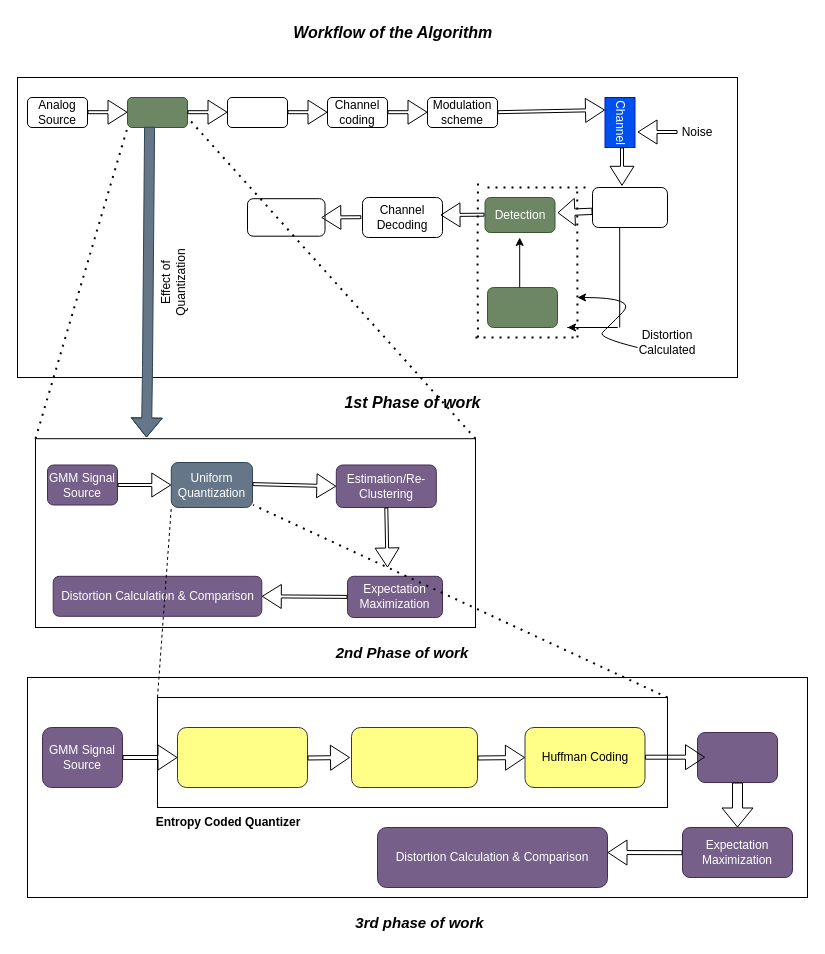
This 825x954 diagram has some shape labels left out. The centre of each missing label's shape, as x and y in pixels:
"A/D converter" belongs at (157,112).
"Decoding" belongs at (737,757).
"Demodulation" belongs at (630,207).
"Estimation" belongs at (522,307).
"Probability Estimation of Quantized value" belongs at (414,757).
"Quantizer Choice (LLoyd-Max Quantizer)" belongs at (242,757).
"Source coding" belongs at (257,112).
"Source Decoding" belongs at (285,217).
